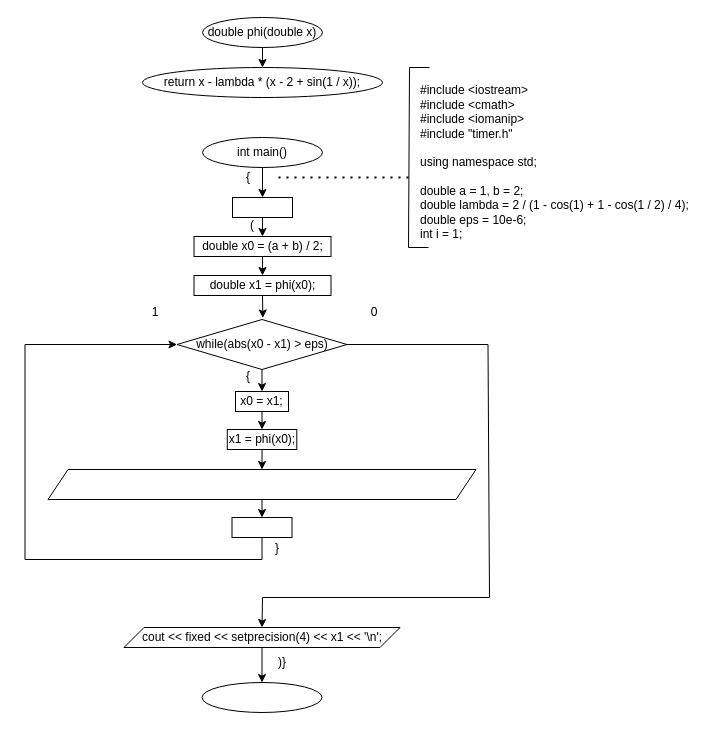
This 706x730 diagram has some shape labels left out. Here are the shapes that lost their labels. From the top down, the box of each, then its label:
(232, 196, 292, 218): TIMER
(47, 468, 476, 500): cout << fixed << setprecision(4) << "Step: " << i << " Value: " << x1 << '\n';
(231, 516, 292, 538): i++;
(201, 682, 322, 712): return 0;
